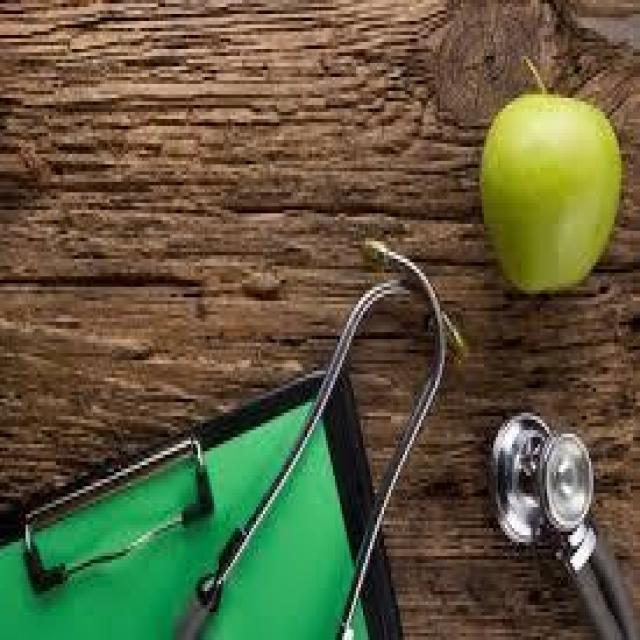maca: (477, 56, 621, 294)
